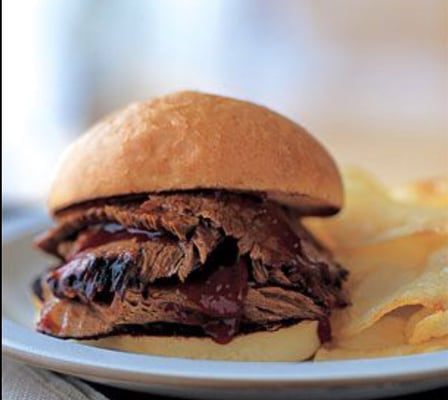soup: (32, 89, 352, 361)
